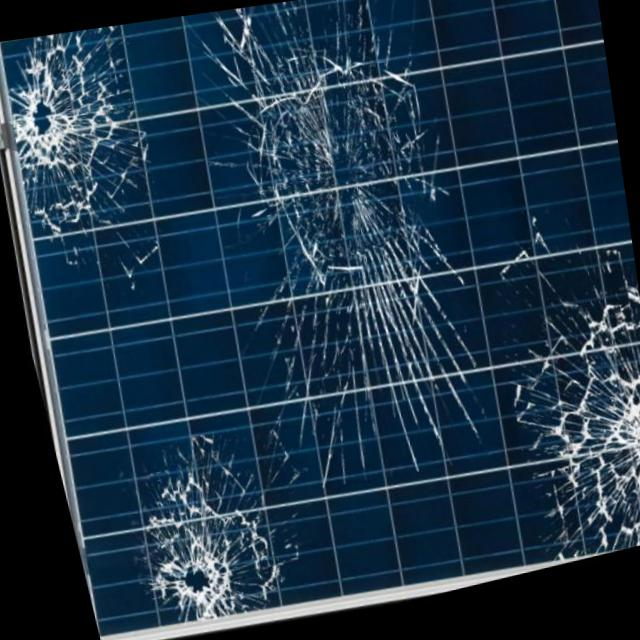faulty: (1, 0, 640, 631)
